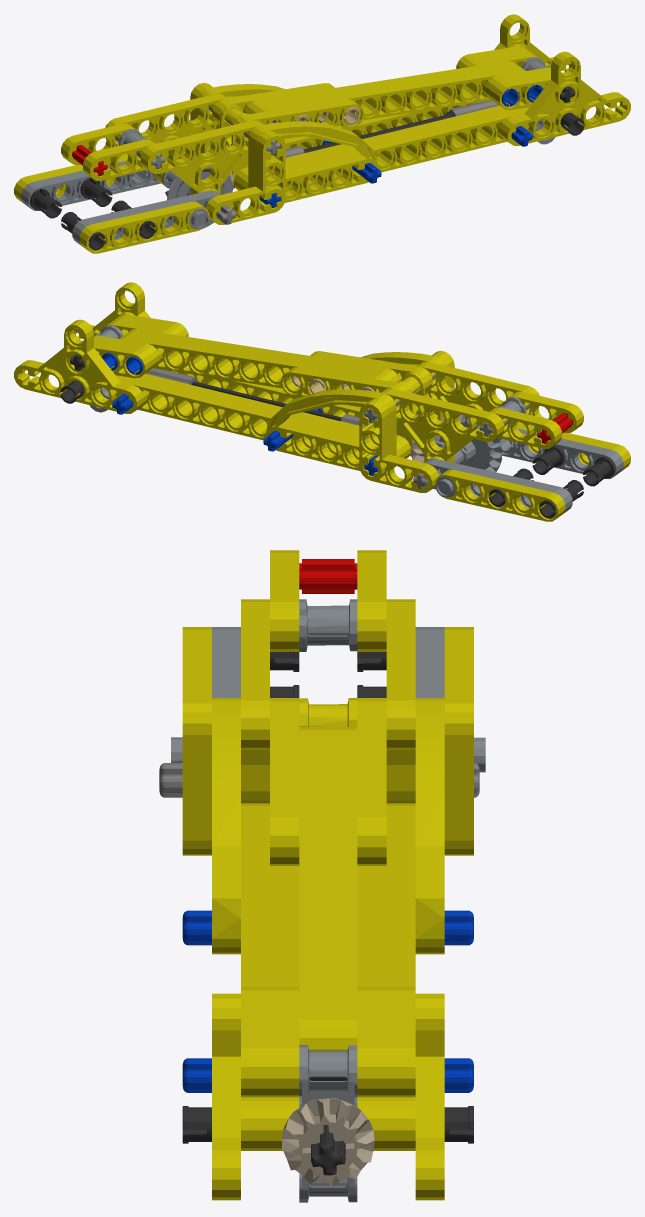
Rendered from Arm5.fbx.
The picture shows the model from 3 angles, top to bottom: view 1: azimuth 30°, elevation 25°; view 2: azimuth 150°, elevation 25°; view 3: azimuth 270°, elevation 25°; orthographic projection. The views are drawn at different scales.
Visible parts, largest first — view 1: Arm5; view 2: Arm5; view 3: Arm5.
Part boxes in pixels (x1,y1,x2,y2): Arm5: (14,14,630,253); Arm5: (14,282,630,521); Arm5: (159,550,485,1202).
Size of the model in its own units: 17.5 by 3.12 by 4.48.
